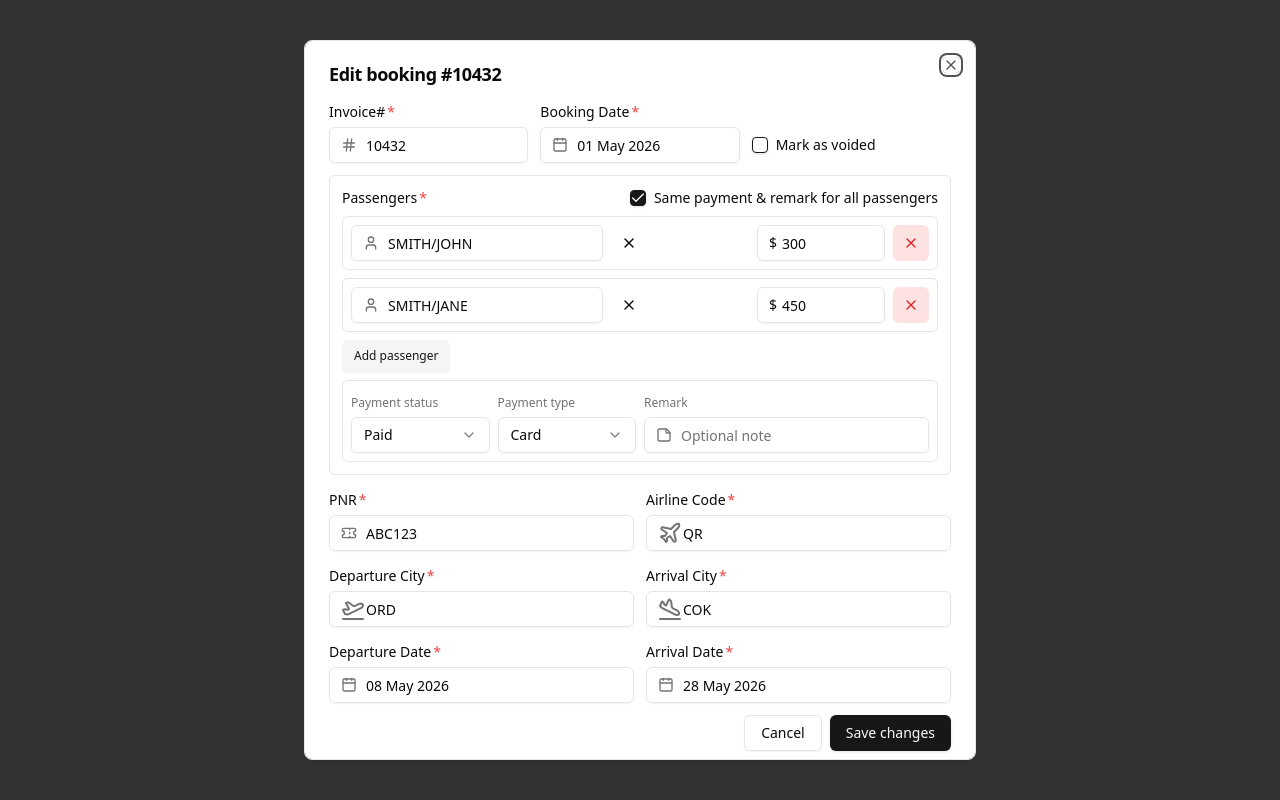
Test case: EditBookingDialog › surfaces the backend HAS_ADJUSTMENTS message instead of a generic connection error
Expected: the field showing "10432" is shown, left=329, top=127, right=528, bottom=163
Click the button "Save changes".
click(890, 733)  # box left=830, top=715, right=951, bottom=751
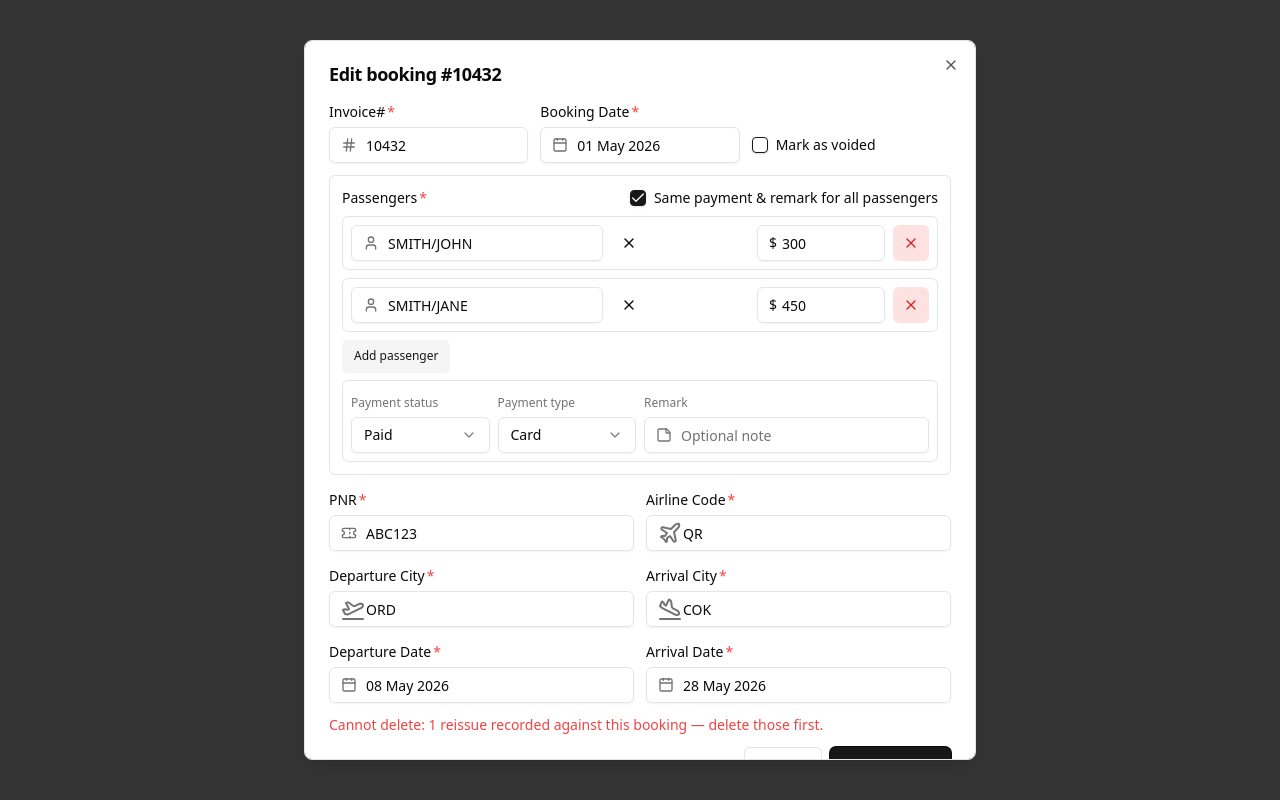
Expected: the text "Cannot delete: 1 reissue recorded against this booking — delete those first." is shown, left=329, top=715, right=823, bottom=734
